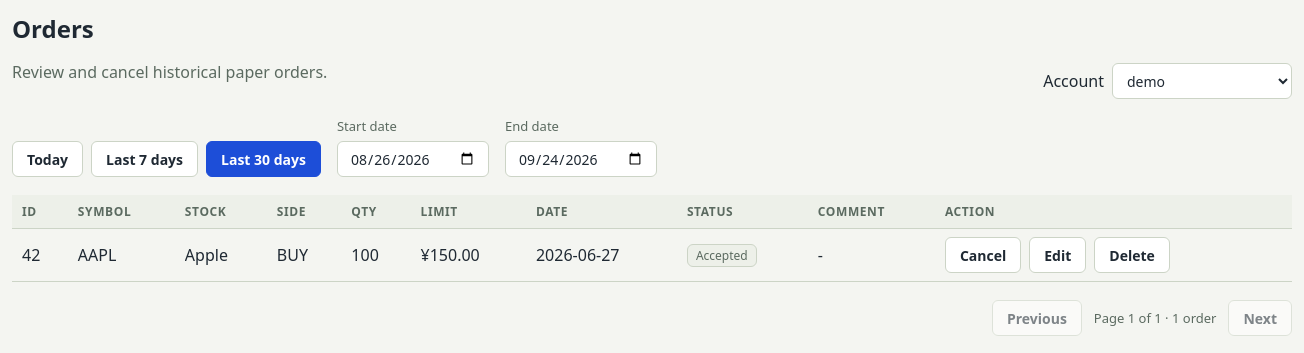
Test: OrdersPage › shows Edit button on orders
Click the button "Edit": (1058, 255) [1029, 237, 1086, 273]
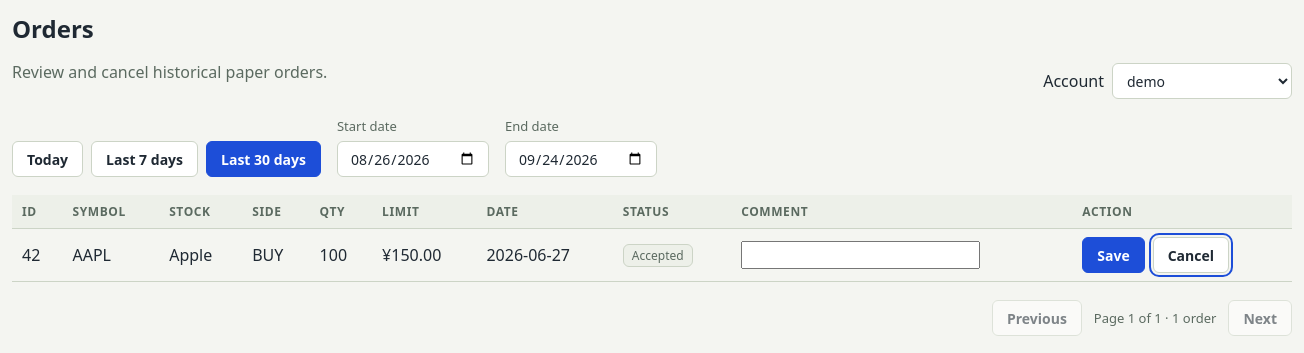
Expected: the field named "Edit comment" is shown, [741, 241, 980, 269]
